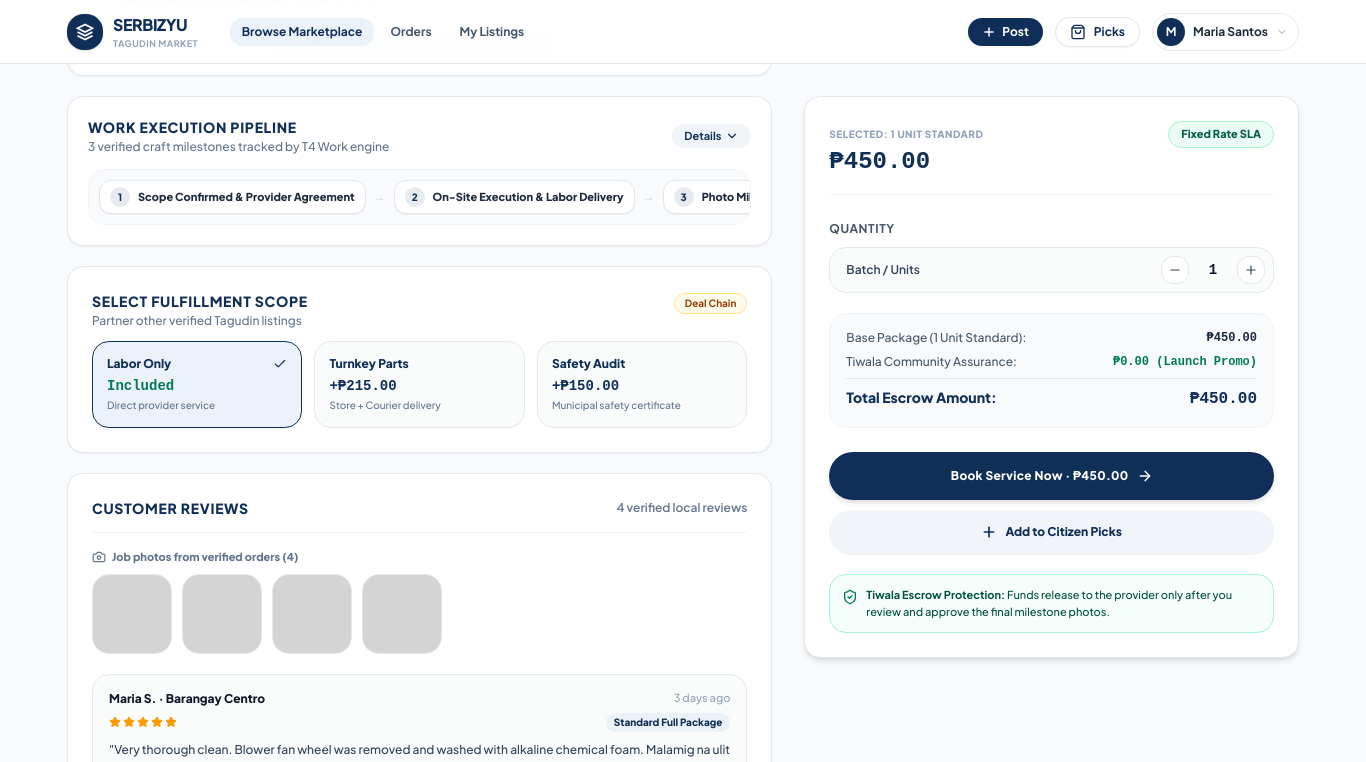
Scenario: ListingDetail Page › updates total escrow amount and renders live pipeline when turnkey deal chain preset is selected
(page scrolled)
Note: Click "Turnkey Parts"
Step 1. Click the button "Turnkey Parts +₱215.00 Store + Courier delivery" → (420, 385), box top-left (314, 341), bottom-right (525, 428)
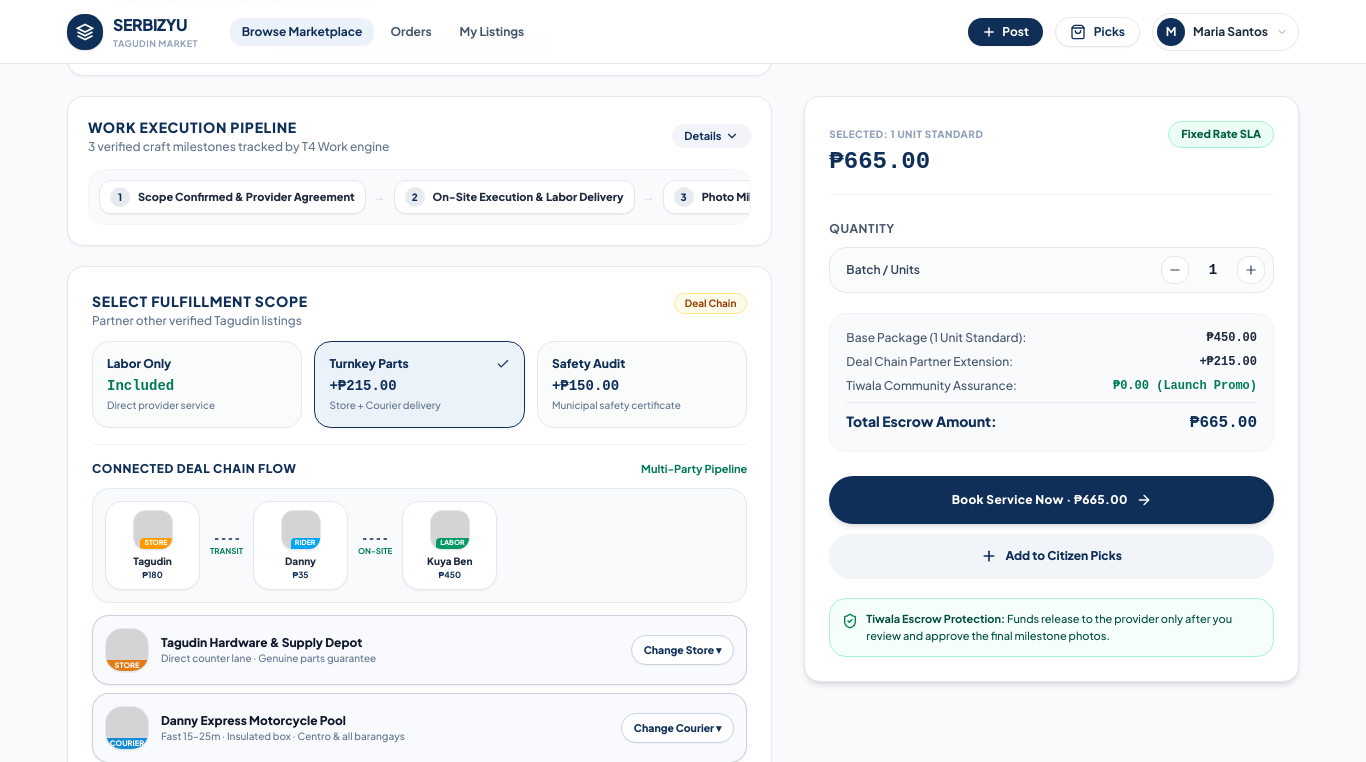
Expected: the text "Connected Deal Chain Flow" is shown, top-left (92, 461), bottom-right (296, 477)
Expected: the button "Change Courier ▾" is shown, top-left (621, 714), bottom-right (734, 743)
Expected: the button "Change Store ▾" is shown, top-left (631, 636), bottom-right (734, 665)
